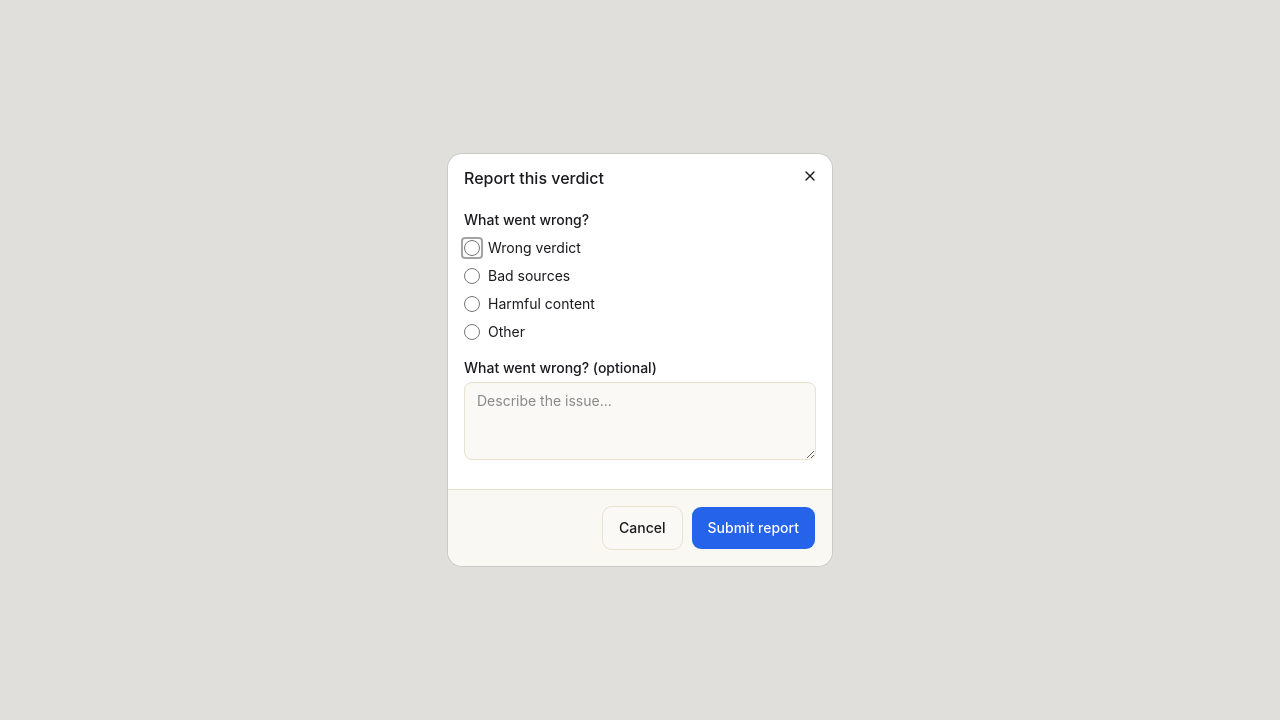
Test: ReportFlow › shows error when submitting without selecting a category
Click the button "Submit report".
click(753, 528)  # box [690,506,816,550]
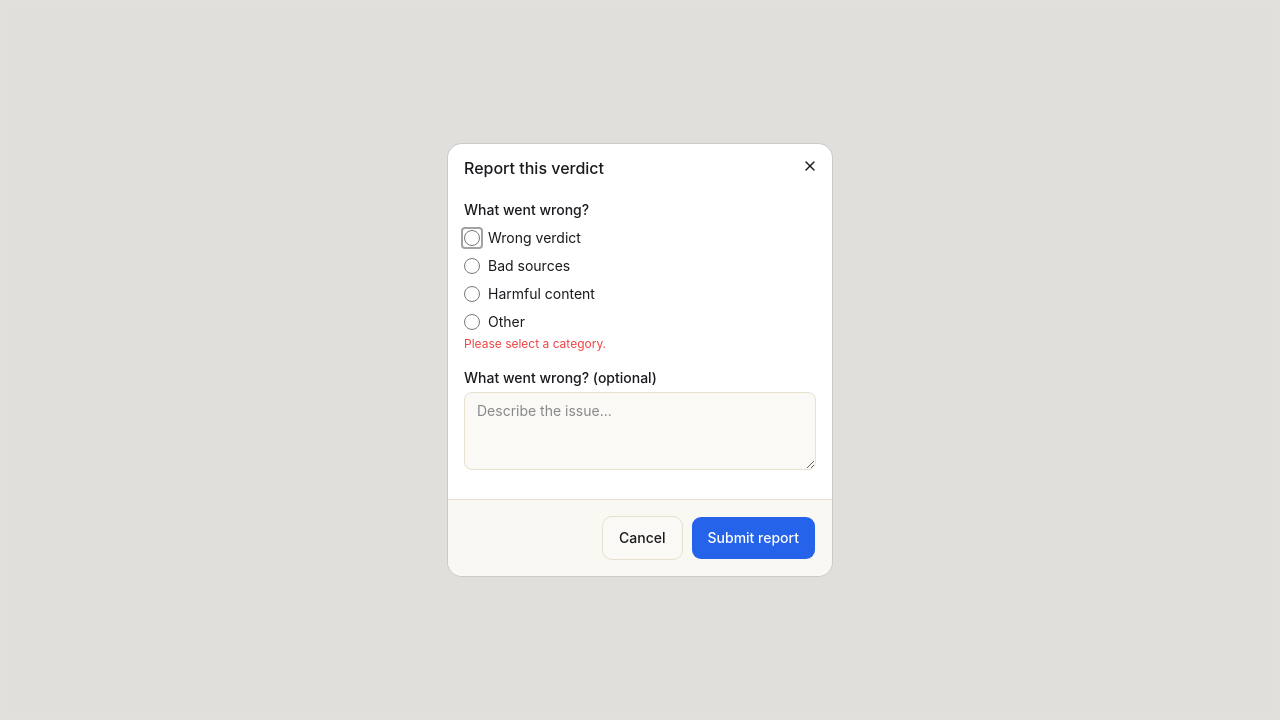
Expected: the text "Please select a category." is shown, [464,336,606,351]
